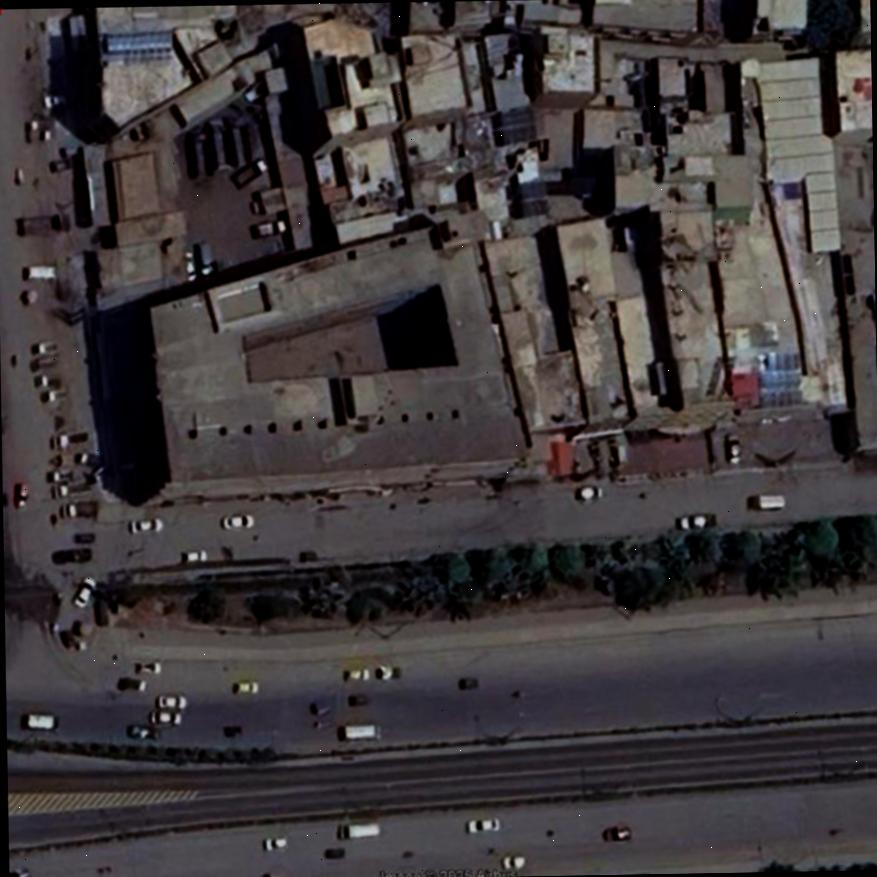Solarpanel: (756, 352, 797, 403)
